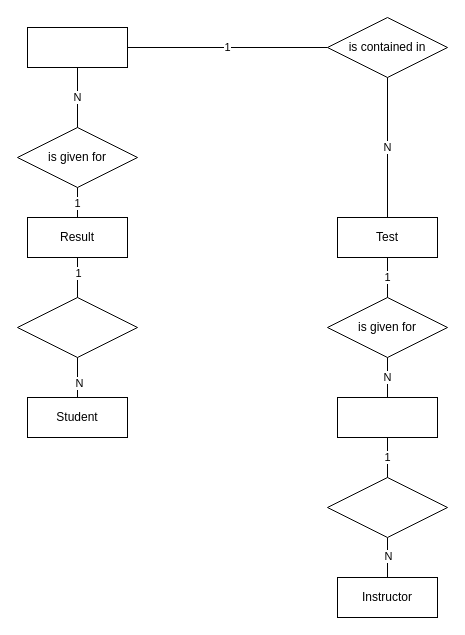
This 465x635 diagram has some shape labels left out. Here are the shapes that lost their labels. From the top down, the box of each, then its label:
(26, 26, 128, 68): QuestionList
(16, 296, 138, 358): is given by
(336, 396, 438, 438): Course
(326, 476, 448, 538): is taught by
